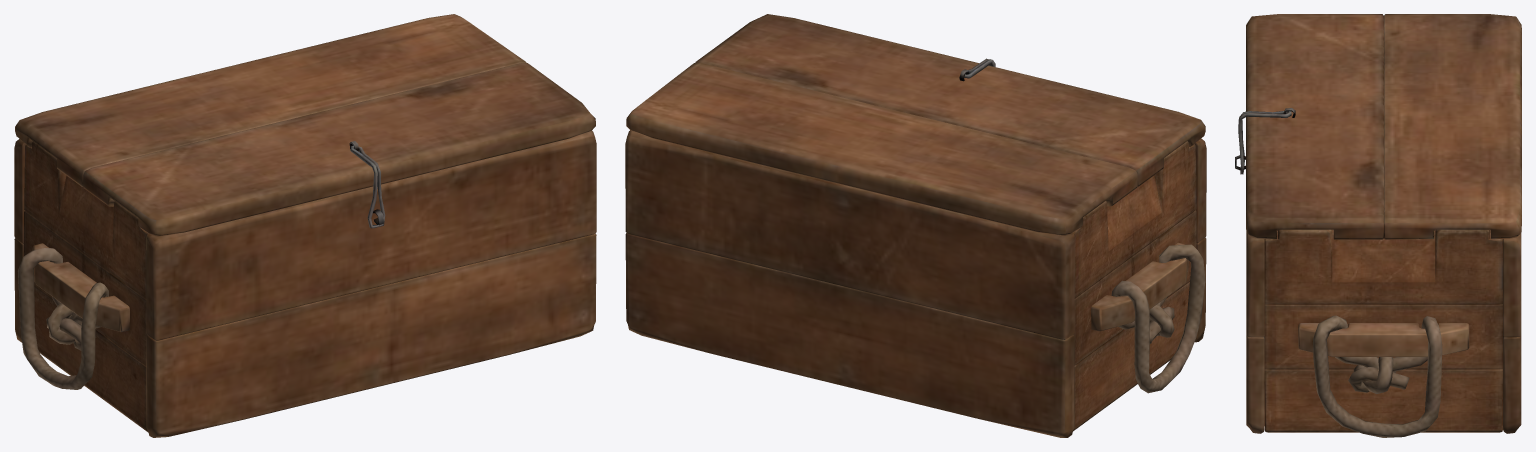
Rendered from ph2_wooden_crate_01.glb.
3 renders of one model, left to right at view 1: azimuth 30°, elevation 25°; view 2: azimuth 150°, elevation 25°; view 3: azimuth 270°, elevation 25°, orthographic. The views are drawn at different scales.
Size of the model in its own units: 0.8245 by 0.3495 by 0.4077.
Materials: 1 (1 with a texture image).
